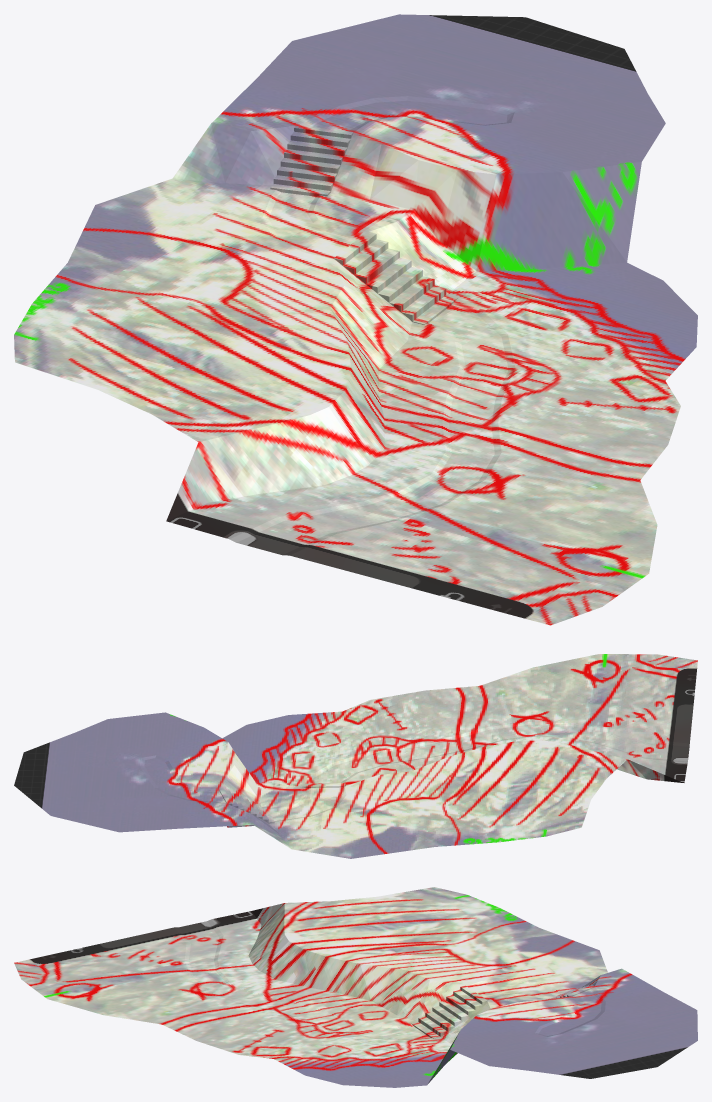
The model's file is test_terrain.obj.
3 views of the same model, one above another, from view 1: azimuth 30°, elevation 25°; view 2: azimuth 150°, elevation 25°; view 3: azimuth 270°, elevation 25° (orthographic). The views are drawn at different scales.
Visible parts, largest first — view 1: terrain; view 2: terrain; view 3: terrain.
Part boxes in pixels (x1=…): terrain: x1=14, y1=14, x2=697, y2=625; terrain: x1=14, y1=654, x2=697, y2=858; terrain: x1=14, y1=887, x2=697, y2=1087.
Size of the model in its own units: 43.92 by 4.62 by 59.42.
